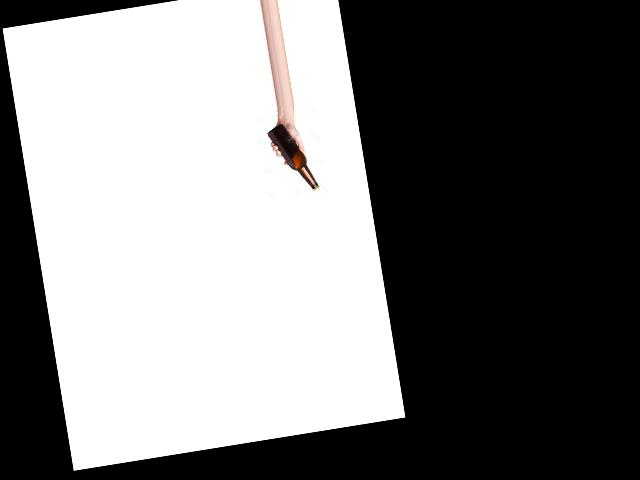beer: (267, 119, 320, 196)
